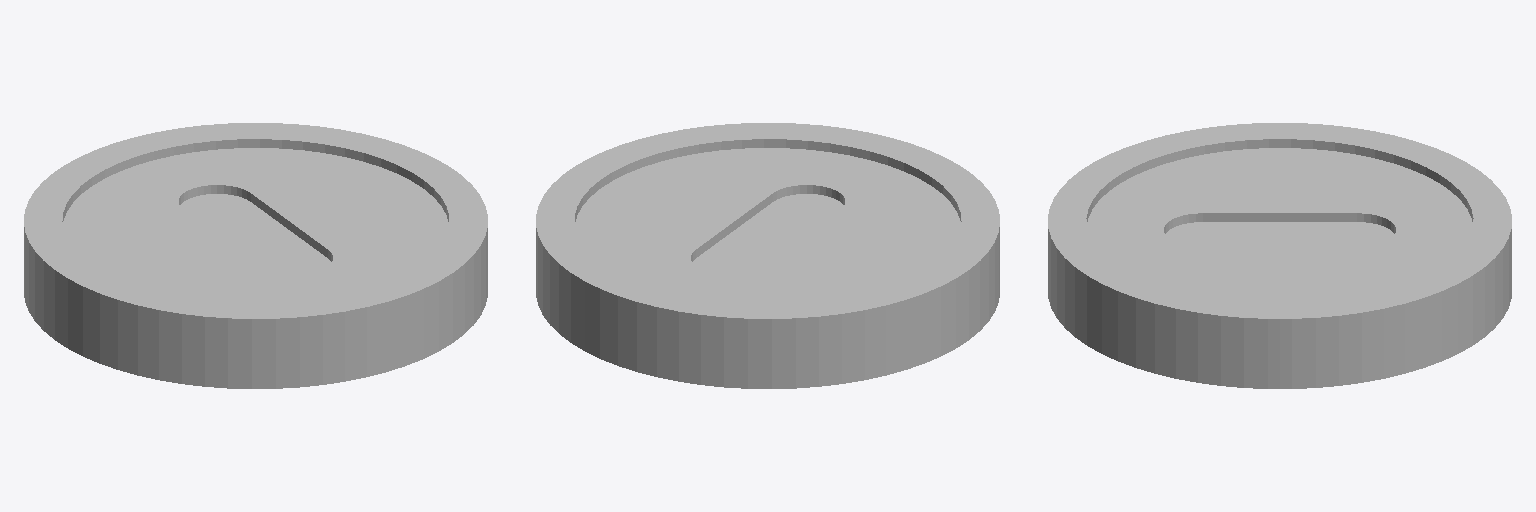
The model's file is coin.obj.
3 views of the same model, side by side, from view 1: azimuth 30°, elevation 25°; view 2: azimuth 150°, elevation 25°; view 3: azimuth 270°, elevation 25° (orthographic).
Visible parts, largest first — view 1: coin; view 2: coin; view 3: coin.
Boxes of the visible parts, x1=… form: coin: x1=24, y1=123, x2=487, y2=388; coin: x1=536, y1=123, x2=999, y2=388; coin: x1=1048, y1=123, x2=1511, y2=388.
Size of the model in its own units: 305 by 50.8 by 305.